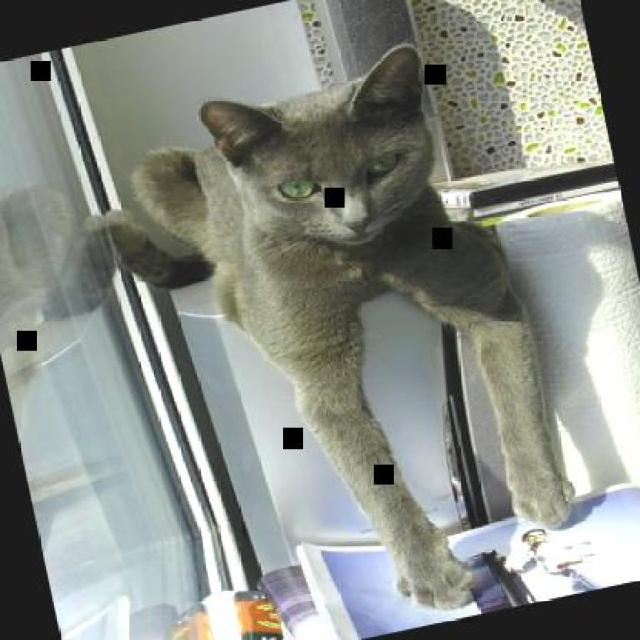cat: (81, 26, 597, 639)
